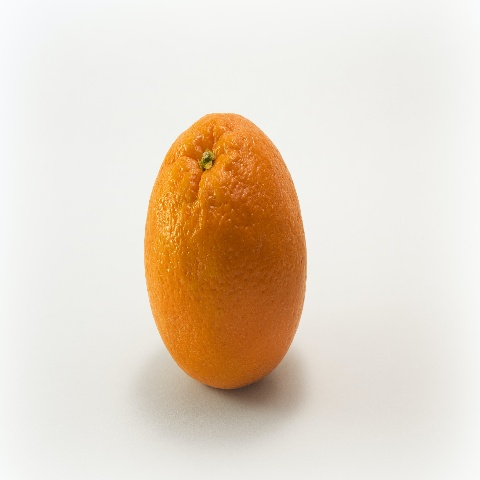orange: (117, 79, 350, 423)
